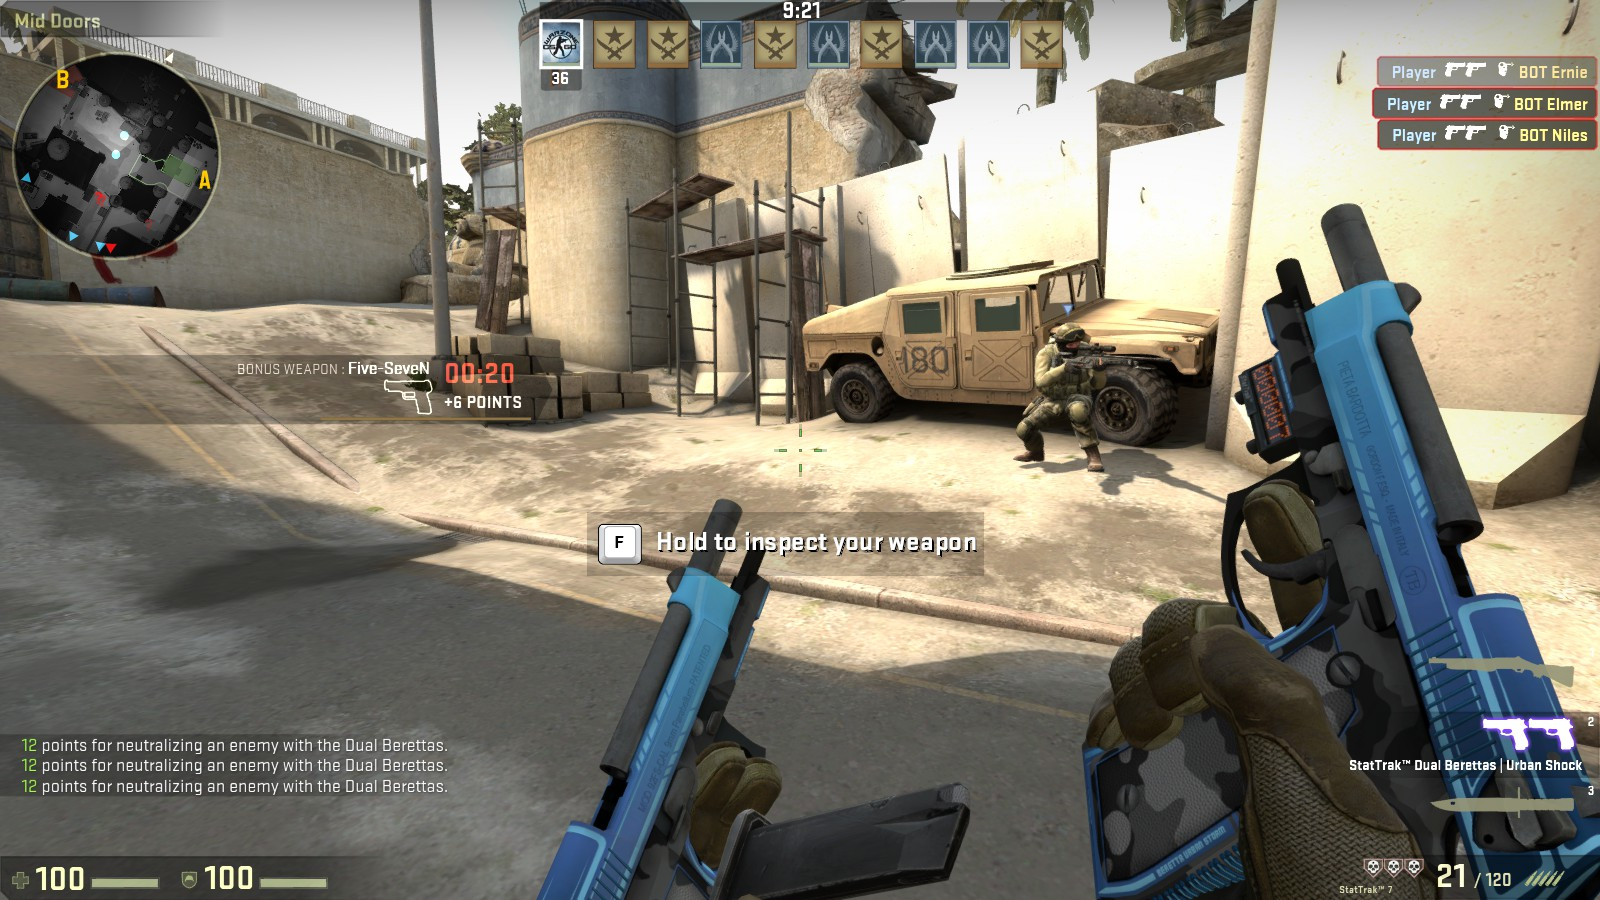c: (1016, 320, 1107, 469)
ch: (1036, 319, 1097, 359)
